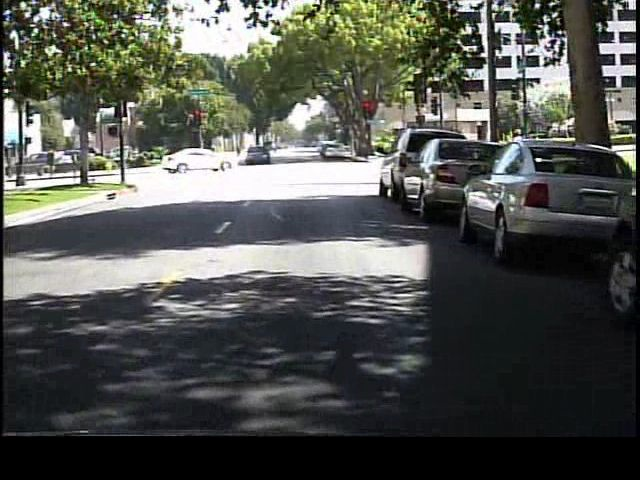person: (243, 142, 259, 170)
